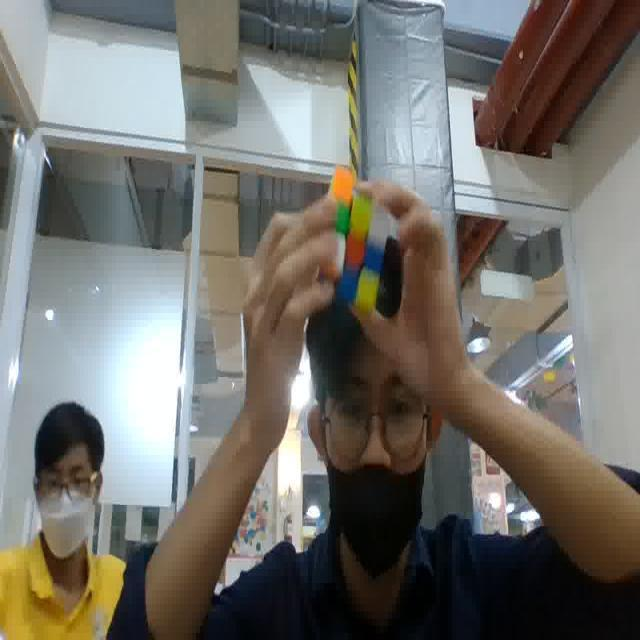Rub: (302, 160, 394, 319)
